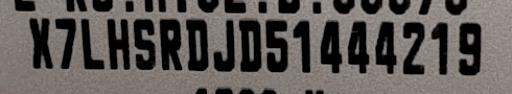letter: (450, 21, 488, 75), (342, 18, 376, 74), (370, 17, 400, 73), (25, 15, 55, 69), (182, 17, 212, 71), (398, 19, 428, 73), (316, 17, 344, 73), (156, 16, 184, 70), (235, 16, 263, 70), (130, 17, 158, 70), (104, 17, 132, 69), (78, 17, 106, 69), (210, 16, 236, 70), (262, 18, 288, 72), (290, 18, 316, 72), (52, 16, 78, 69), (427, 21, 451, 73)
